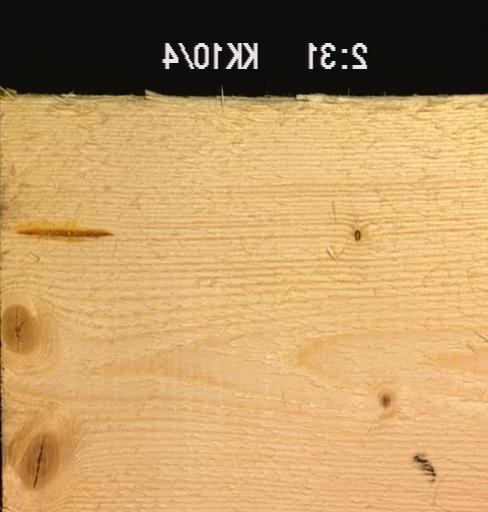dry_knot: (350, 227, 365, 243)
sound_knot: (10, 424, 66, 490), (0, 301, 43, 359), (376, 389, 394, 411)
